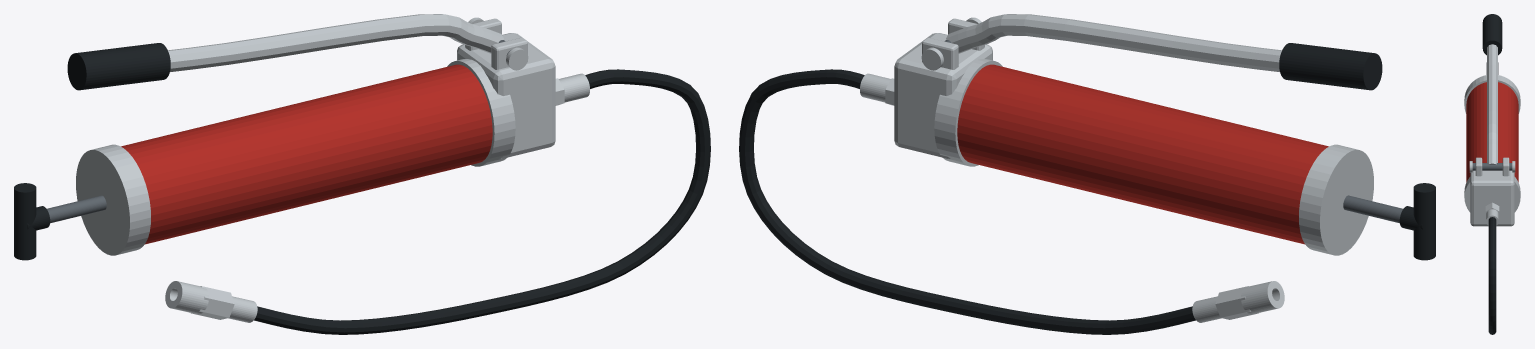
Rendered from full.glb.
3 views of the same model, side by side, from view 1: azimuth 30°, elevation 25°; view 2: azimuth 150°, elevation 25°; view 3: azimuth 270°, elevation 25° (orthographic). The views are drawn at different scales.
Visible parts, largest first — view 1: Closed grease barrel, Continuous delivery hose, Long lever spine, Rear threaded appearance cap, Closed pump head, Rear lever handgrip, Front barrel collar, Dark T pull handle, Coupler annular mouth, Rear plunger shaft, Coupler hex body, Head pivot ear -0.014 (+2 smaller); view 2: Closed grease barrel, Continuous delivery hose, Long lever spine, Rear threaded appearance cap, Closed pump head, Rear lever handgrip, Front barrel collar, Dark T pull handle, Coupler annular mouth, Rear plunger shaft, Coupler hex body, Head pivot ear 0.014 (+2 smaller); view 3: Closed grease barrel, Closed pump head, Long lever spine, Continuous delivery hose, Rear lever handgrip, Rear threaded appearance cap, Front barrel collar, Lever hinge pin, Head pivot ear -0.014, Head pivot ear 0.014, Hose head ferrule, Head outlet hex fitting.
Part boxes in pixels (<box>): Closed grease barrel: <box>121,64,492,244</box>; Continuous delivery hose: <box>254,69,710,334</box>; Long lever spine: <box>168,14,503,71</box>; Rear threaded appearance cap: <box>76,144,150,255</box>; Closed pump head: <box>457,33,555,158</box>; Rear lever handgrip: <box>67,43,170,90</box>; Front barrel collar: <box>447,59,515,166</box>; Dark T pull handle: <box>14,183,36,260</box>; Coupler annular mouth: <box>165,281,208,314</box>; Rear plunger shaft: <box>47,195,106,223</box>; Coupler hex body: <box>191,286,234,319</box>; Head pivot ear -0.014: <box>491,37,527,69</box>; Closed grease barrel: <box>957,64,1328,244</box>; Continuous delivery hose: <box>739,69,1195,334</box>; Long lever spine: <box>946,14,1281,71</box>; Rear threaded appearance cap: <box>1299,144,1373,255</box>; Closed pump head: <box>894,33,992,158</box>; Rear lever handgrip: <box>1279,43,1382,90</box>; Front barrel collar: <box>934,59,1002,166</box>; Dark T pull handle: <box>1413,183,1435,260</box>; Coupler annular mouth: <box>1241,281,1284,314</box>; Rear plunger shaft: <box>1343,195,1402,223</box>; Coupler hex body: <box>1215,286,1258,319</box>; Head pivot ear 0.014: <box>922,37,958,69</box>; Closed grease barrel: <box>1466,82,1518,182</box>; Closed pump head: <box>1470,170,1514,226</box>; Long lever spine: <box>1487,44,1497,164</box>; Continuous delivery hose: <box>1488,217,1496,334</box>; Rear lever handgrip: <box>1482,14,1502,55</box>; Rear threaded appearance cap: <box>1464,75,1520,113</box>; Front barrel collar: <box>1464,177,1520,212</box>; Lever hinge pin: <box>1472,163,1512,170</box>; Head pivot ear -0.014: <box>1475,157,1482,176</box>; Head pivot ear 0.014: <box>1502,157,1509,176</box>; Hose head ferrule: <box>1486,209,1498,225</box>; Head outlet hex fitting: <box>1485,202,1499,218</box>.
Size of the model in its own units: 0.4288 by 0.2127 by 0.058.
